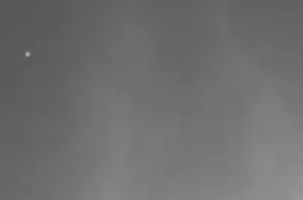Target: (26, 53, 31, 57)
